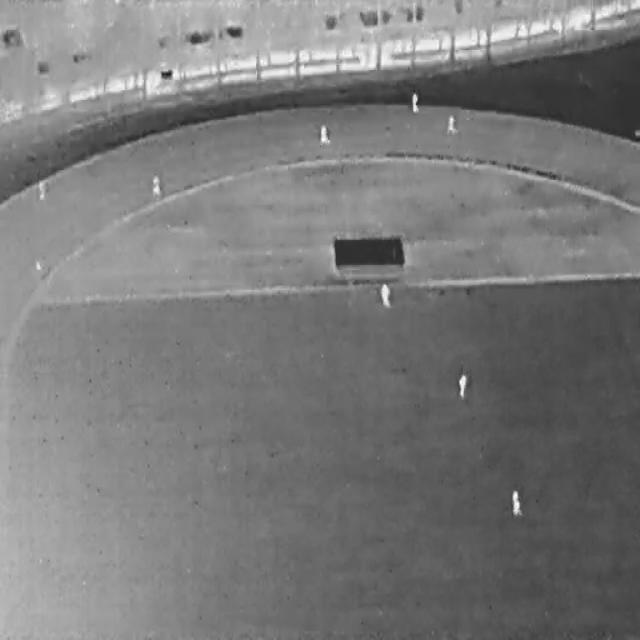Person: (511, 490, 522, 515), (380, 282, 390, 306), (319, 122, 329, 144), (446, 114, 457, 134), (458, 372, 466, 397), (151, 175, 160, 197), (37, 179, 45, 200), (411, 91, 419, 112)
